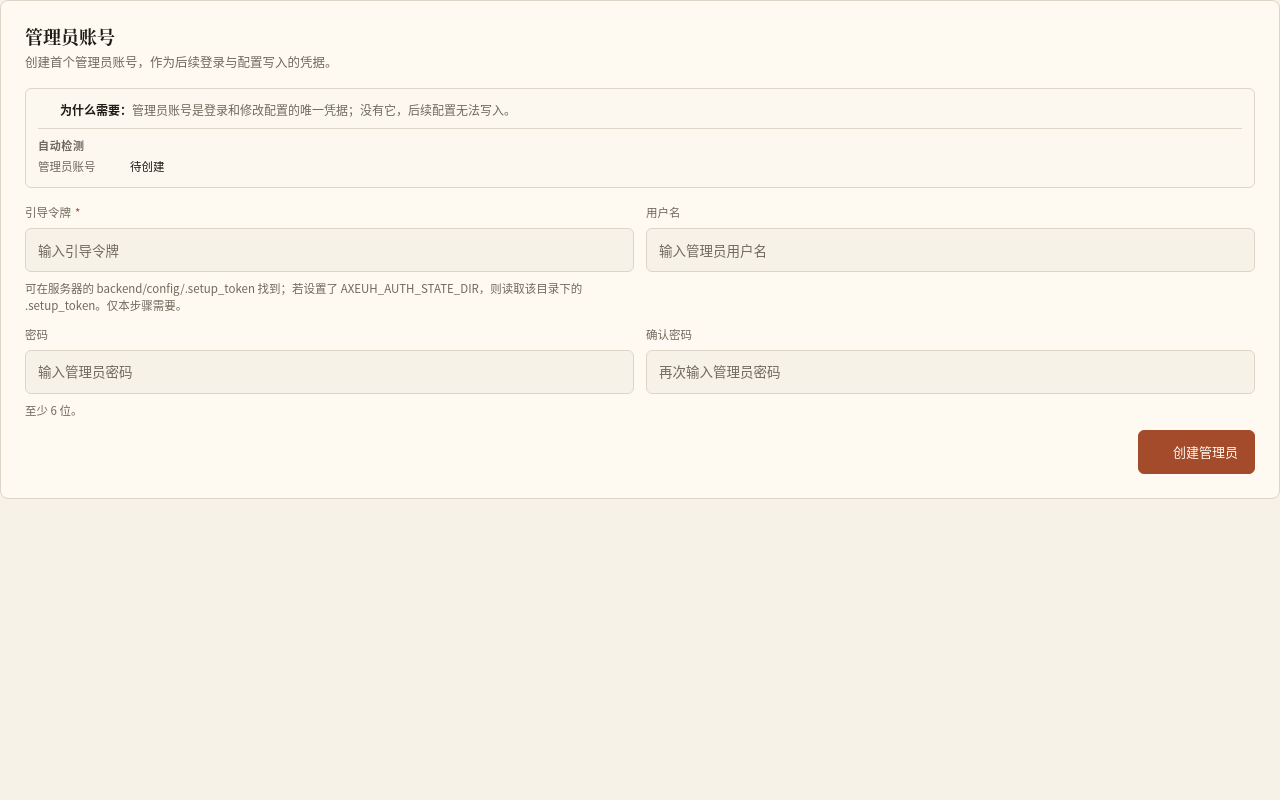
Test: AccountStep › requires the setup token when the server enforces it
Type "admin" into the field labelled "用户名".
click(950, 250); type("admin")  # box x1=646 y1=228 x2=1255 y2=272
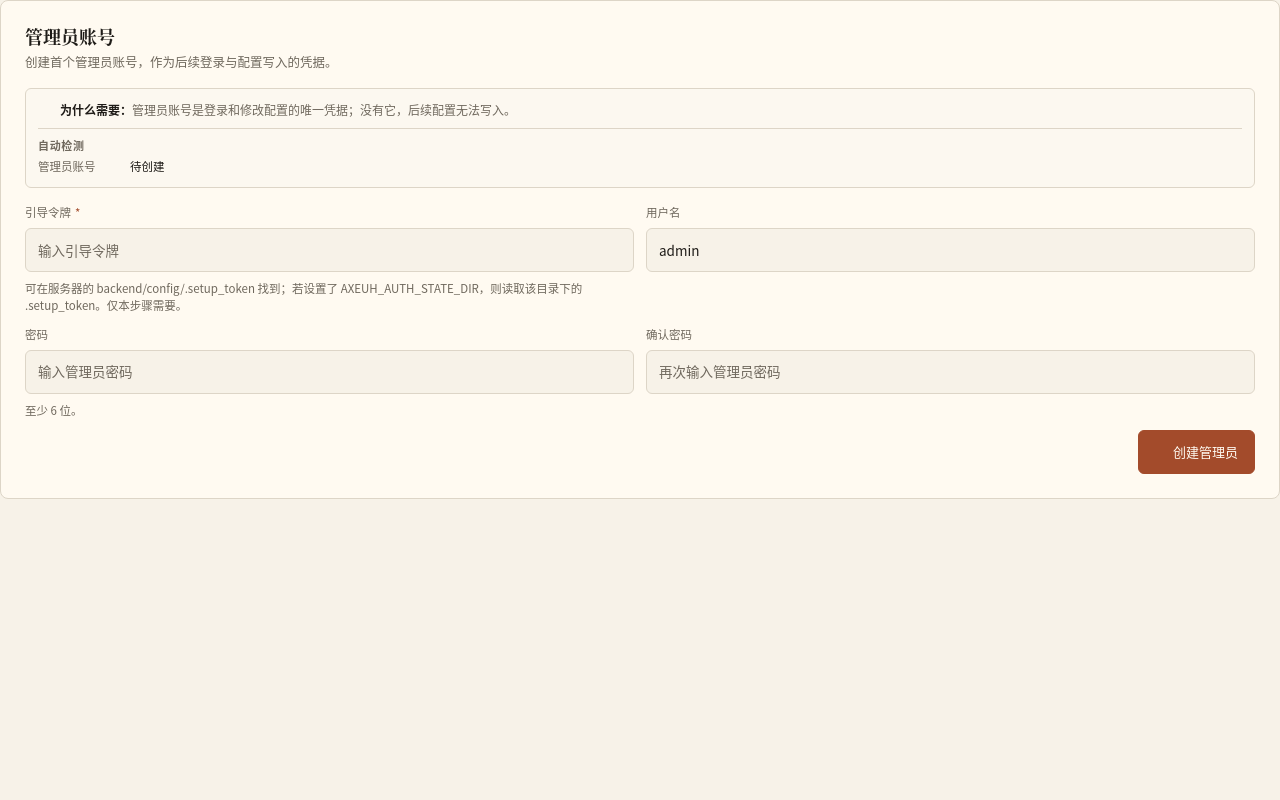
Type "pw123456" into the password field labelled "密码".
click(330, 372); type("pw123456")  # box x1=25 y1=350 x2=634 y2=394
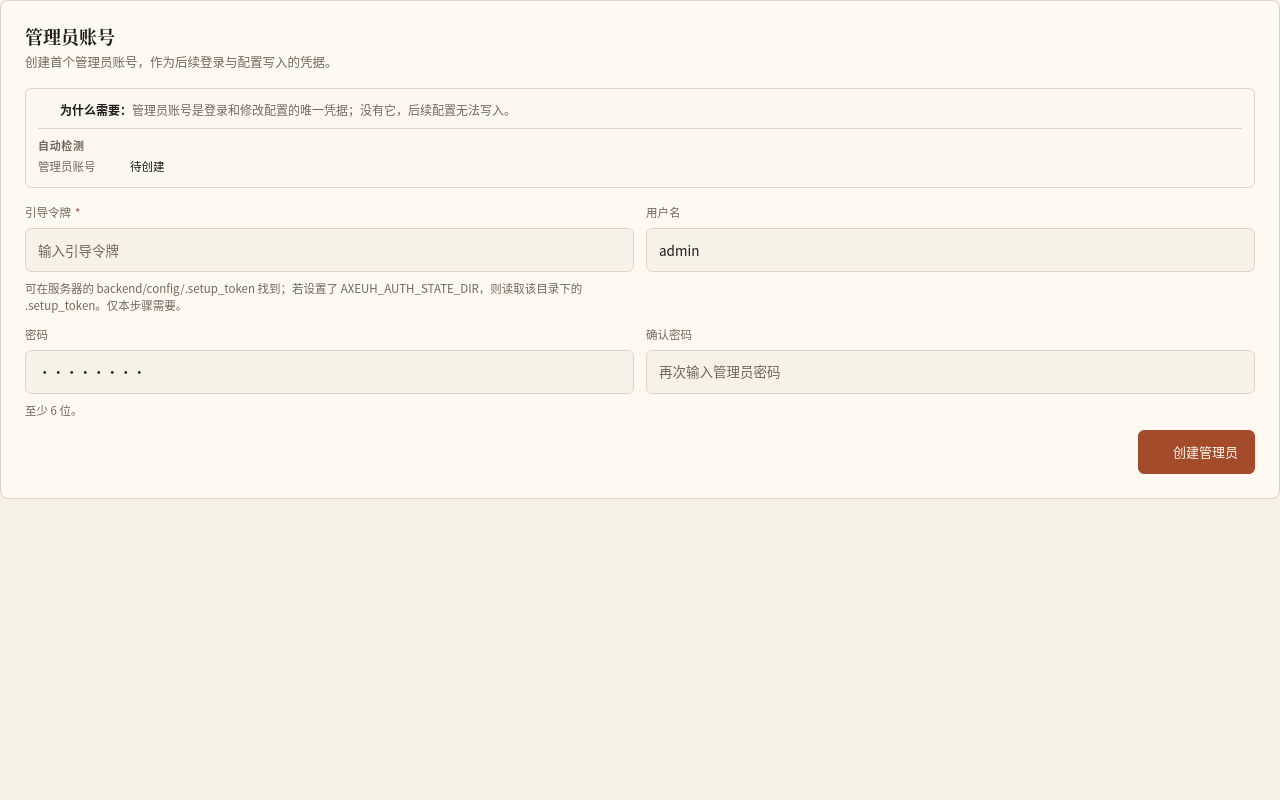
Type "pw123456" into the password field labelled "确认密码".
click(950, 372); type("pw123456")  # box x1=646 y1=350 x2=1255 y2=394
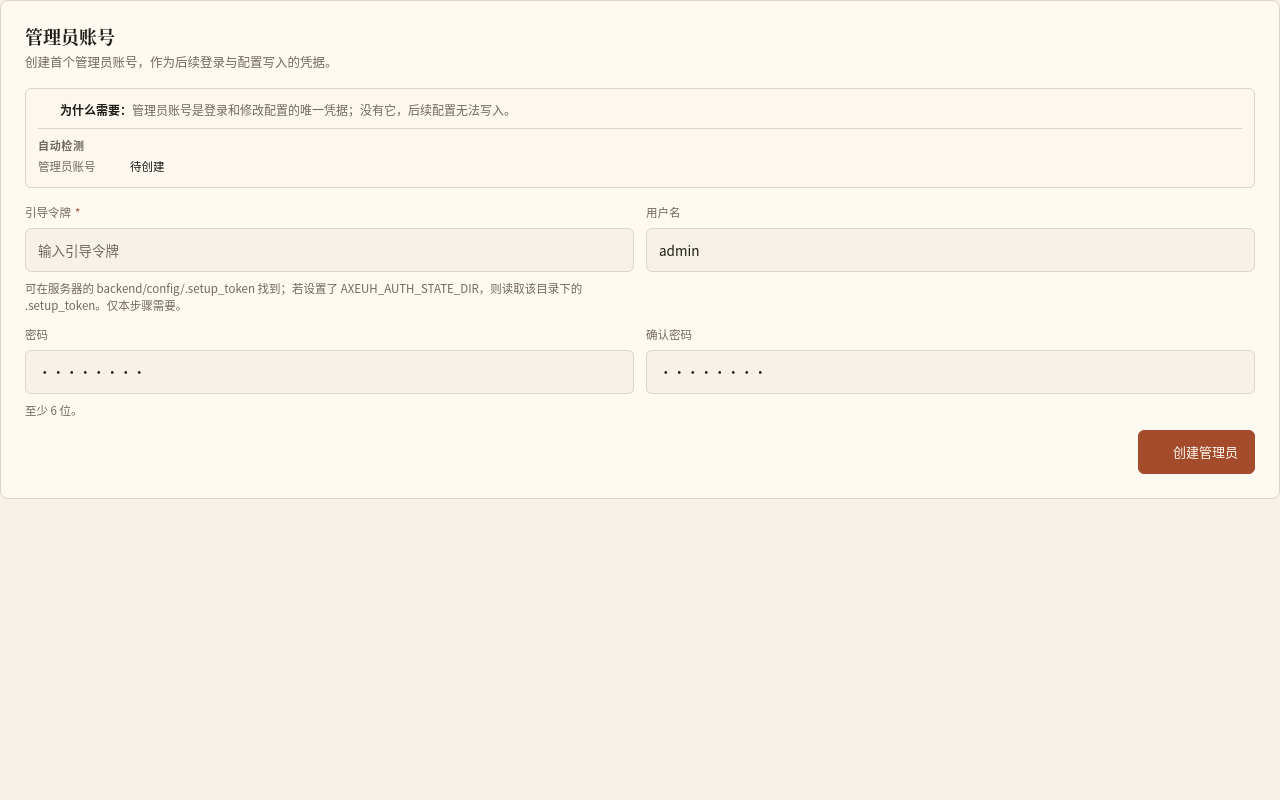
Submit the form, box x1=25 y1=204 x2=1255 y2=474
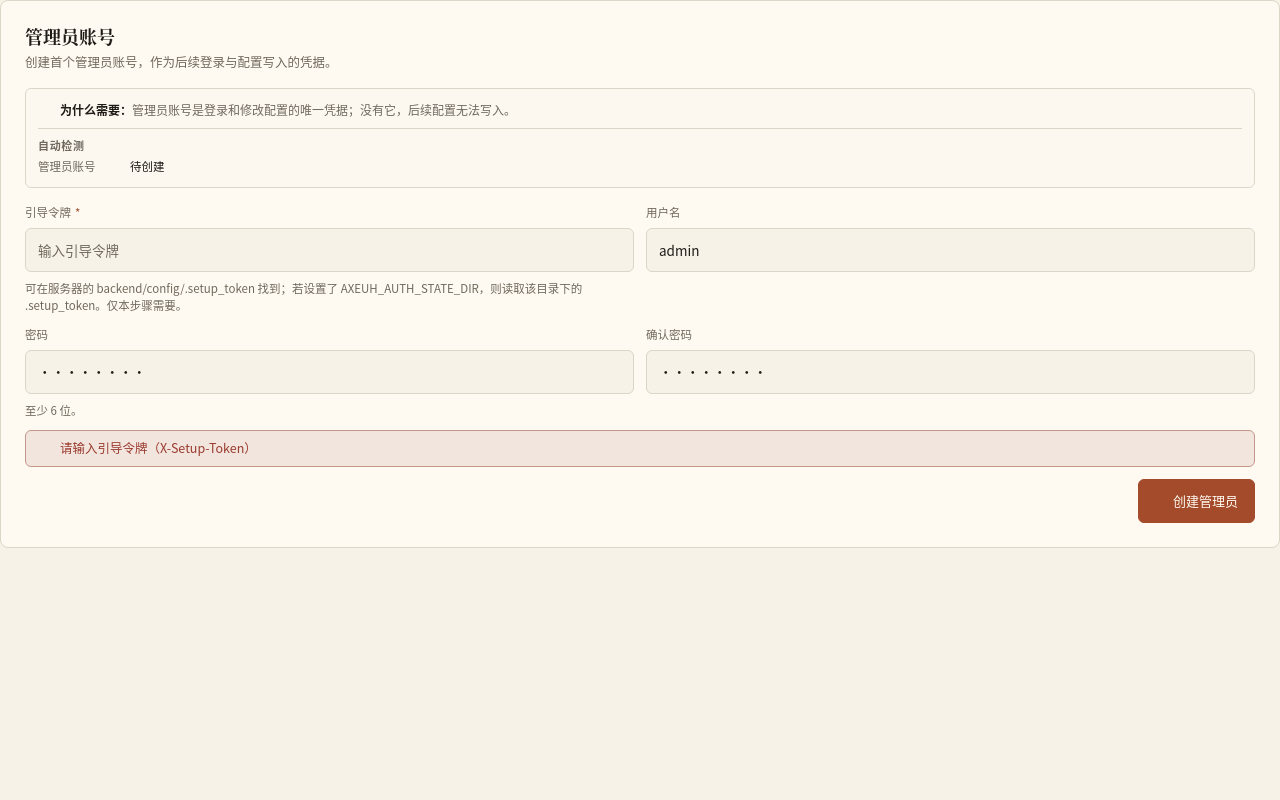
Expected: the message "请输入引导令牌（X-Setup-Token）" is shown, x1=25 y1=430 x2=1255 y2=467
